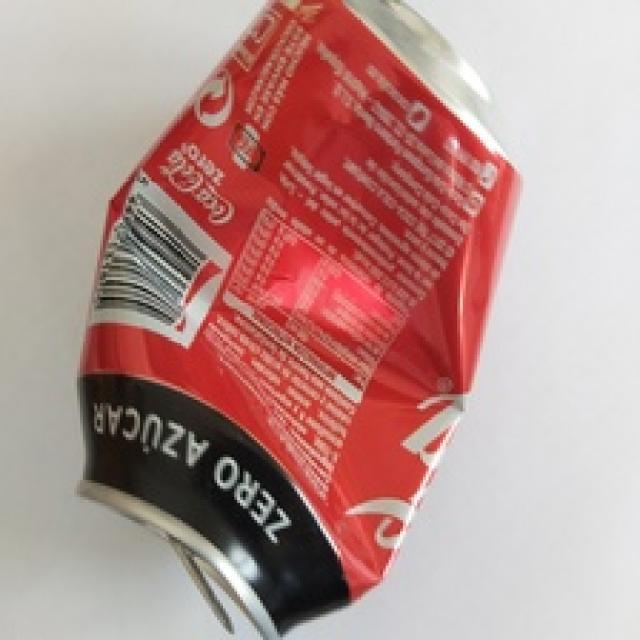recyclable: (77, 0, 528, 640)
